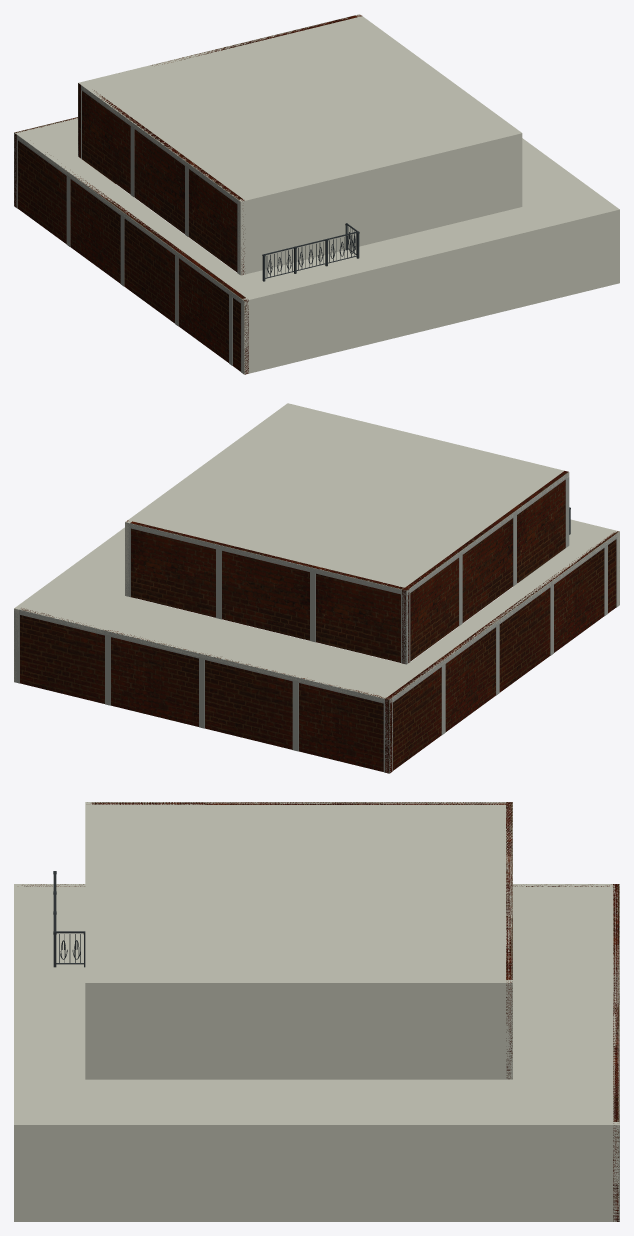
The model's file is building.glb.
The picture shows the model from 3 angles, top to bottom: view 1: azimuth 30°, elevation 25°; view 2: azimuth 150°, elevation 25°; view 3: azimuth 270°, elevation 25°; orthographic projection. The views are drawn at different scales.
Parts seen in each view (by area): view 1: roof/upper:0/roof_slab#0001, lower:0/edge0/z0/lower:0/edge0/z0/wall_0_0, upper:0/edge0/z3/upper:0/edge0/z3/wall_0_0, roof/lower:0/roof_slab#0001, lower:0/edge3/z0/lower:0/edge3/z0/wall_0_0, upper:0/edge3/z3/upper:0/edge3/z3/wall_0_0, lower:0/edge3/z0/lower:0/edge3/z0/beam_0_0, upper:0/edge1/z3/upper:0/edge1/z3/wall_0_0, upper:0/edge3/z3/upper:0/edge3/z3/beam_0_0, lower:0/edge1/z0/lower:0/edge1/z0/wall_0_0, upper:0/edge2/z3/upper:0/edge2/z3/wall_0_0; view 2: roof/upper:0/roof_slab#0001, lower:0/edge2/z0/lower:0/edge2/z0/wall_0_0, roof/lower:0/roof_slab#0001, upper:0/edge2/z3/upper:0/edge2/z3/wall_0_0, lower:0/edge3/z0/lower:0/edge3/z0/wall_0_0, upper:0/edge3/z3/upper:0/edge3/z3/wall_0_0, lower:0/edge2/z0/lower:0/edge2/z0/beam_0_0, upper:0/edge2/z3/upper:0/edge2/z3/beam_0_0, lower:0/edge3/z0/lower:0/edge3/z0/beam_0_0, upper:0/edge1/z3/upper:0/edge1/z3/wall_0_0, upper:0/edge3/z3/upper:0/edge3/z3/beam_0_0, upper:0/edge0/z3/upper:0/edge0/z3/wall_0_0 (+1 smaller); view 3: roof/upper:0/roof_slab#0001, roof/lower:0/roof_slab#0001, lower:0/edge1/z0/lower:0/edge1/z0/wall_0_0, upper:0/edge1/z3/upper:0/edge1/z3/wall_0_0, lower:0/edge0/z0/lower:0/edge0/z0/wall_0_0, upper:0/edge0/z3/upper:0/edge0/z3/wall_0_0, lower:0/edge2/z0/lower:0/edge2/z0/wall_0_0, upper:0/edge2/z3/upper:0/edge2/z3/wall_0_0, upper:0/edge3/z3/upper:0/edge3/z3/wall_0_0.
Part boxes in pixels (x1=…): roof/upper:0/roof_slab#0001: x1=78, y1=14, x2=520, y2=204; lower:0/edge0/z0/lower:0/edge0/z0/wall_0_0: x1=241, y1=209, x2=619, y2=374; upper:0/edge0/z3/upper:0/edge0/z3/wall_0_0: x1=238, y1=132, x2=522, y2=275; roof/lower:0/roof_slab#0001: x1=14, y1=117, x2=618, y2=303; lower:0/edge3/z0/lower:0/edge3/z0/wall_0_0: x1=17, y1=140, x2=248, y2=374; upper:0/edge3/z3/upper:0/edge3/z3/wall_0_0: x1=82, y1=90, x2=244, y2=274; lower:0/edge3/z0/lower:0/edge3/z0/beam_0_0: x1=14, y1=133, x2=243, y2=303; upper:0/edge1/z3/upper:0/edge1/z3/wall_0_0: x1=355, y1=14, x2=522, y2=207; upper:0/edge3/z3/upper:0/edge3/z3/beam_0_0: x1=81, y1=85, x2=240, y2=205; lower:0/edge1/z0/lower:0/edge1/z0/wall_0_0: x1=522, y1=138, x2=619, y2=284; upper:0/edge2/z3/upper:0/edge2/z3/wall_0_0: x1=78, y1=15, x2=361, y2=158; roof/upper:0/roof_slab#0001: x1=127, y1=404, x2=568, y2=592; lower:0/edge2/z0/lower:0/edge2/z0/wall_0_0: x1=20, y1=608, x2=392, y2=772; roof/lower:0/roof_slab#0001: x1=14, y1=520, x2=619, y2=703; upper:0/edge2/z3/upper:0/edge2/z3/wall_0_0: x1=127, y1=520, x2=409, y2=662; lower:0/edge3/z0/lower:0/edge3/z0/wall_0_0: x1=385, y1=531, x2=619, y2=773; upper:0/edge3/z3/upper:0/edge3/z3/wall_0_0: x1=402, y1=471, x2=568, y2=663; lower:0/edge2/z0/lower:0/edge2/z0/beam_0_0: x1=14, y1=609, x2=389, y2=703; upper:0/edge2/z3/upper:0/edge2/z3/beam_0_0: x1=125, y1=522, x2=406, y2=595; lower:0/edge3/z0/lower:0/edge3/z0/beam_0_0: x1=389, y1=533, x2=619, y2=704; upper:0/edge1/z3/upper:0/edge1/z3/wall_0_0: x1=125, y1=405, x2=289, y2=596; upper:0/edge3/z3/upper:0/edge3/z3/beam_0_0: x1=406, y1=472, x2=568, y2=595; upper:0/edge0/z3/upper:0/edge0/z3/wall_0_0: x1=285, y1=403, x2=569, y2=477; roof/upper:0/roof_slab#0001: x1=85, y1=802, x2=512, y2=987; roof/lower:0/roof_slab#0001: x1=14, y1=884, x2=619, y2=1129; lower:0/edge1/z0/lower:0/edge1/z0/wall_0_0: x1=14, y1=1122, x2=619, y2=1221; upper:0/edge1/z3/upper:0/edge1/z3/wall_0_0: x1=85, y1=980, x2=512, y2=1079; lower:0/edge0/z0/lower:0/edge0/z0/wall_0_0: x1=14, y1=884, x2=20, y2=1221; upper:0/edge0/z3/upper:0/edge0/z3/wall_0_0: x1=85, y1=802, x2=92, y2=1079; lower:0/edge2/z0/lower:0/edge2/z0/wall_0_0: x1=613, y1=884, x2=619, y2=1221; upper:0/edge2/z3/upper:0/edge2/z3/wall_0_0: x1=506, y1=802, x2=512, y2=1078; upper:0/edge3/z3/upper:0/edge3/z3/wall_0_0: x1=91, y1=802, x2=510, y2=804.
Bounding box in the file's own units: 16 × 6 × 17.
4 materials, 1 textured.
